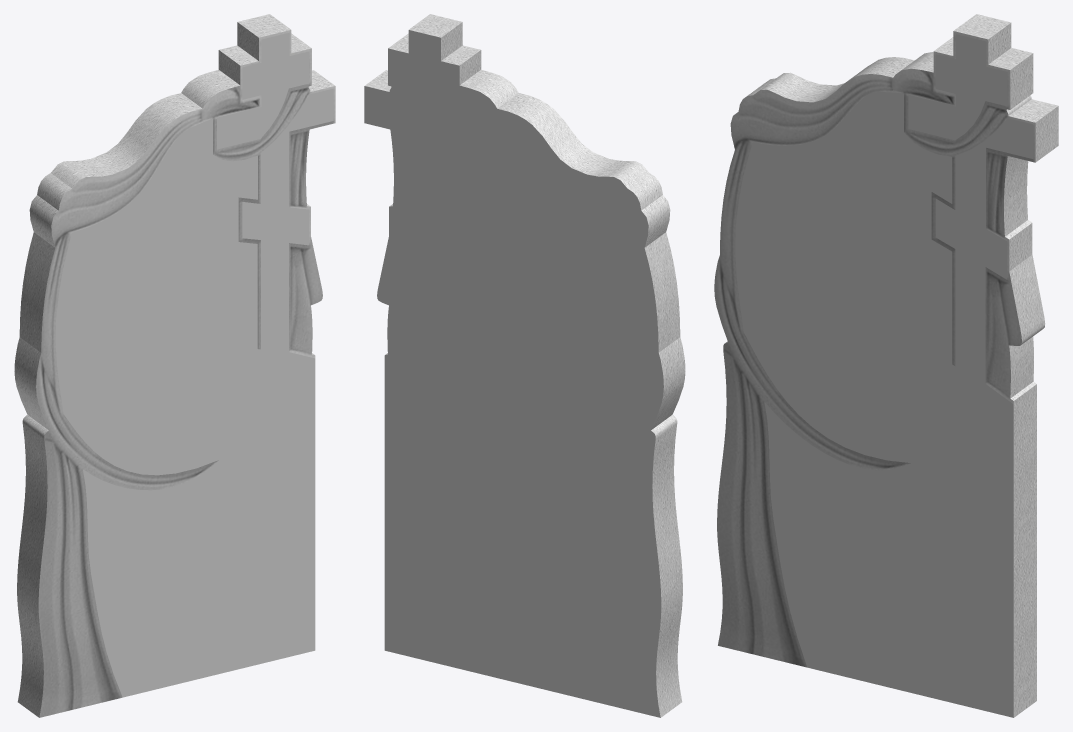
The model's file is cnb0d1b4049b_tkf.glb.
The picture shows the model from 3 angles, left to right: view 1: azimuth 30°, elevation 25°; view 2: azimuth 150°, elevation 25°; view 3: azimuth 330°, elevation 25°; orthographic projection. The views are drawn at different scales.
Parts seen in each view (by area): view 1: Pam-d01-251, Pam-d01-251_2_notexture; view 2: Pam-d01-251, Pam-d01-251_2_notexture; view 3: Pam-d01-251, Pam-d01-251_2_notexture.
Boxes of the visible parts, x1,y1,x2,y2 form: Pam-d01-251: (55,32,333,697); Pam-d01-251_2_notexture: (14,14,335,717); Pam-d01-251: (364,30,663,717); Pam-d01-251_2_notexture: (365,14,685,717); Pam-d01-251: (735,34,1033,717); Pam-d01-251_2_notexture: (714,14,1058,717).
Bounding box in the file's own units: 0.4 × 0.8 × 0.05.
Materials: 1 (1 with a texture image).
